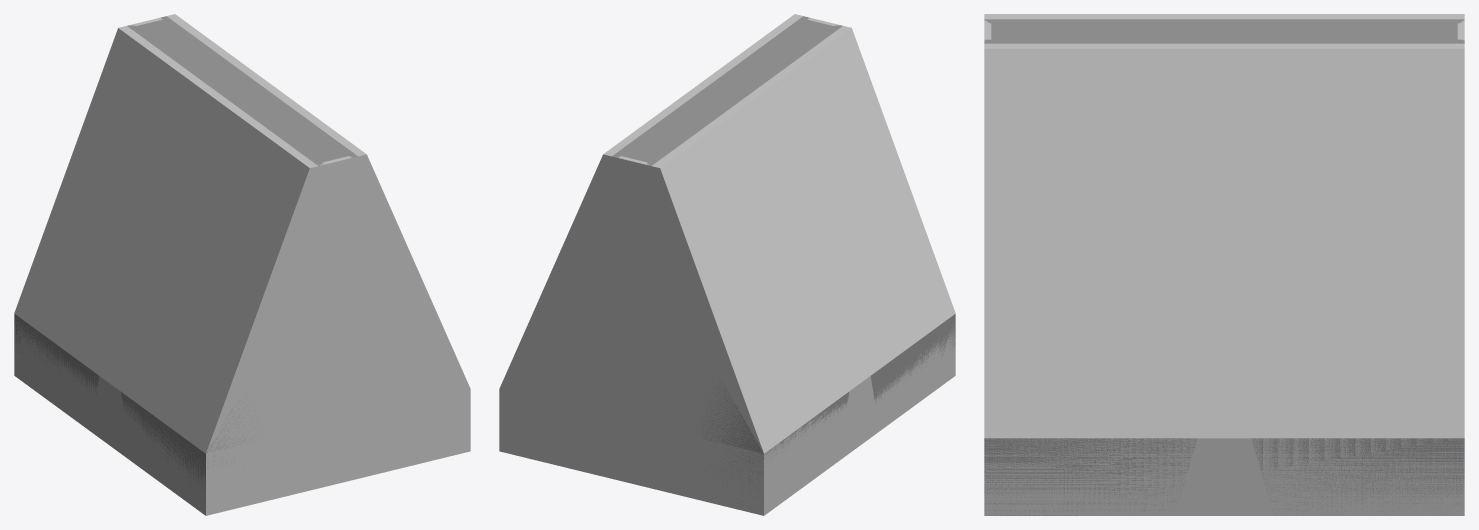
File: SM_Barrier_03_a.fbx
3 renders of one model, left to right at view 1: azimuth 30°, elevation 25°; view 2: azimuth 150°, elevation 25°; view 3: azimuth 270°, elevation 25°, orthographic. The views are drawn at different scales.
Parts seen in each view (by area): view 1: SM_Barrier_03_a_ConvexHulls, SM_Barrier_03_a; view 2: SM_Barrier_03_a_ConvexHulls, SM_Barrier_03_a; view 3: SM_Barrier_03_a_ConvexHulls, SM_Barrier_03_a.
Boxes of the visible parts, x1,y1,x2,y2 form: SM_Barrier_03_a_ConvexHulls: (14, 14, 470, 515); SM_Barrier_03_a: (14, 16, 357, 490); SM_Barrier_03_a_ConvexHulls: (499, 14, 955, 515); SM_Barrier_03_a: (612, 16, 955, 514); SM_Barrier_03_a_ConvexHulls: (984, 14, 1464, 515); SM_Barrier_03_a: (984, 19, 1464, 515).
Size of the model in its own units: 67.51 by 84.62 by 78.52.
2 materials, 1 textured.
